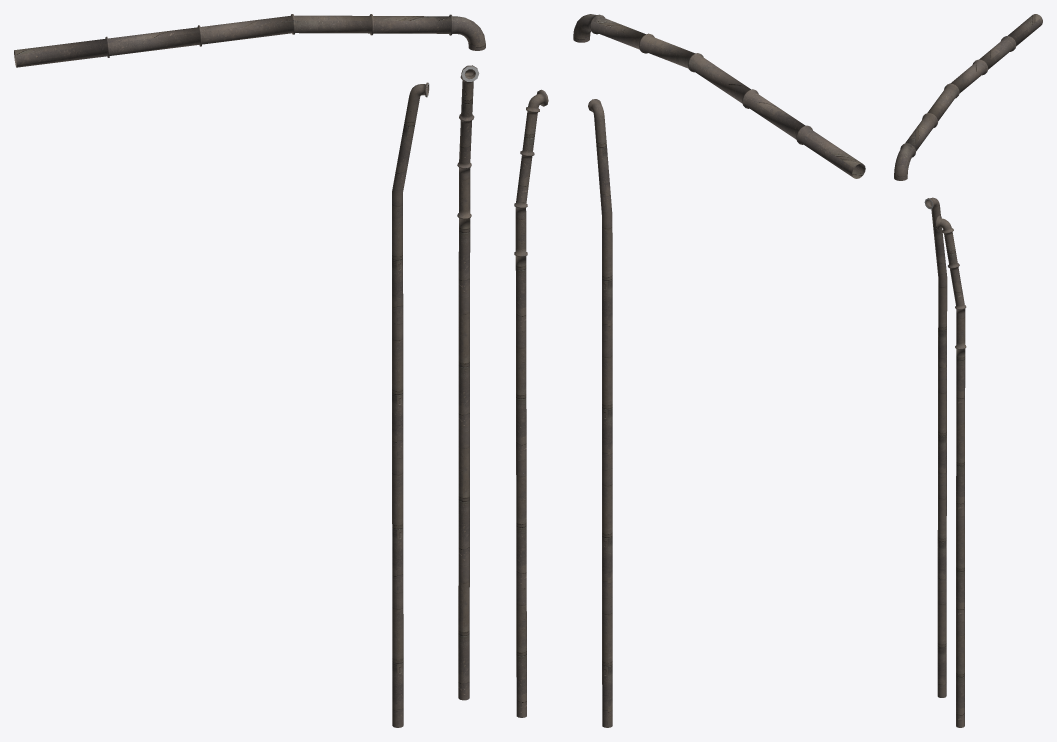
Rendered from SM_Corridor_02_09.fbx.
3 renders of one model, left to right at view 1: azimuth 30°, elevation 25°; view 2: azimuth 150°, elevation 25°; view 3: azimuth 270°, elevation 25°, orthographic. The views are drawn at different scales.
Parts seen in each view (by area): view 1: SM_Corridor_02_09; view 2: SM_Corridor_02_09; view 3: SM_Corridor_02_09.
Boxes of the visible parts, x1,y1,x2,y2 form: SM_Corridor_02_09: (14,14,485,727); SM_Corridor_02_09: (514,14,865,727); SM_Corridor_02_09: (894,14,1042,727).
Bounding box in the file's own units: 6389 × 10868 × 2555.
